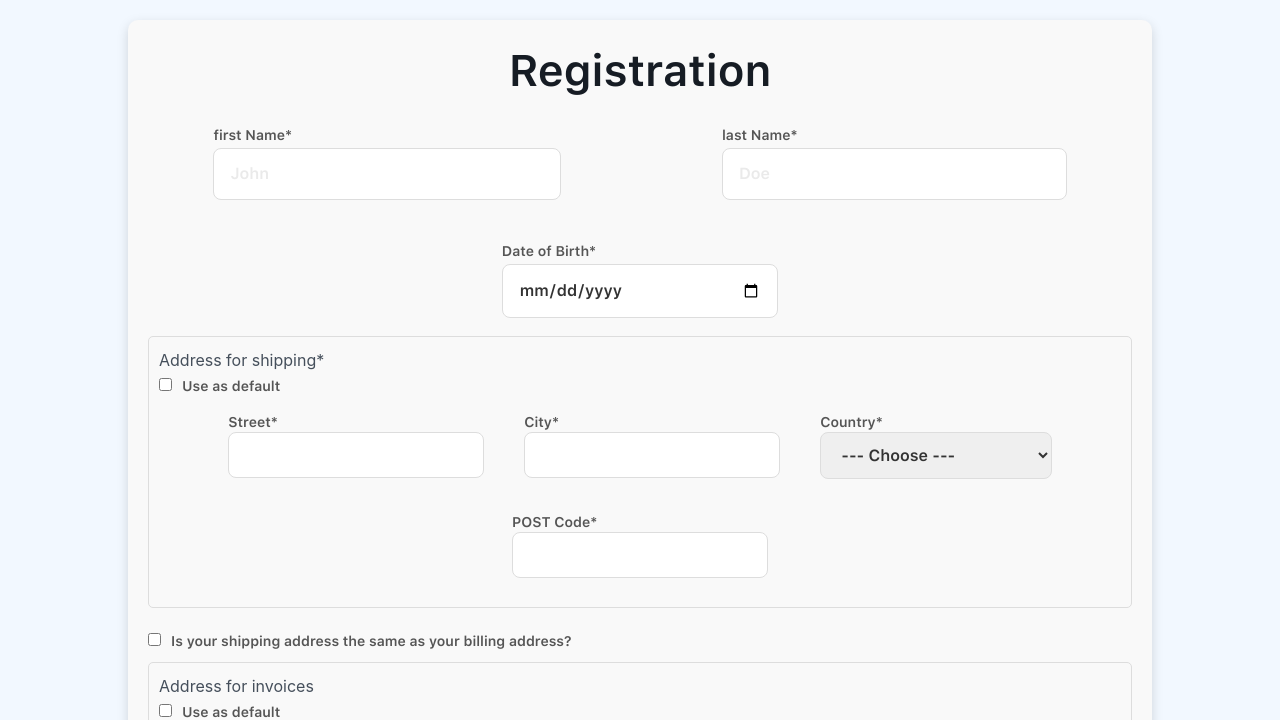
Test: checking input wrong value on Registration page › must be error message when input wrong value in Postal code for country Belarus on Registration page
Select "Belarus" in the dropdown with id "address" at point(936, 456), box [820,432,1052,479]
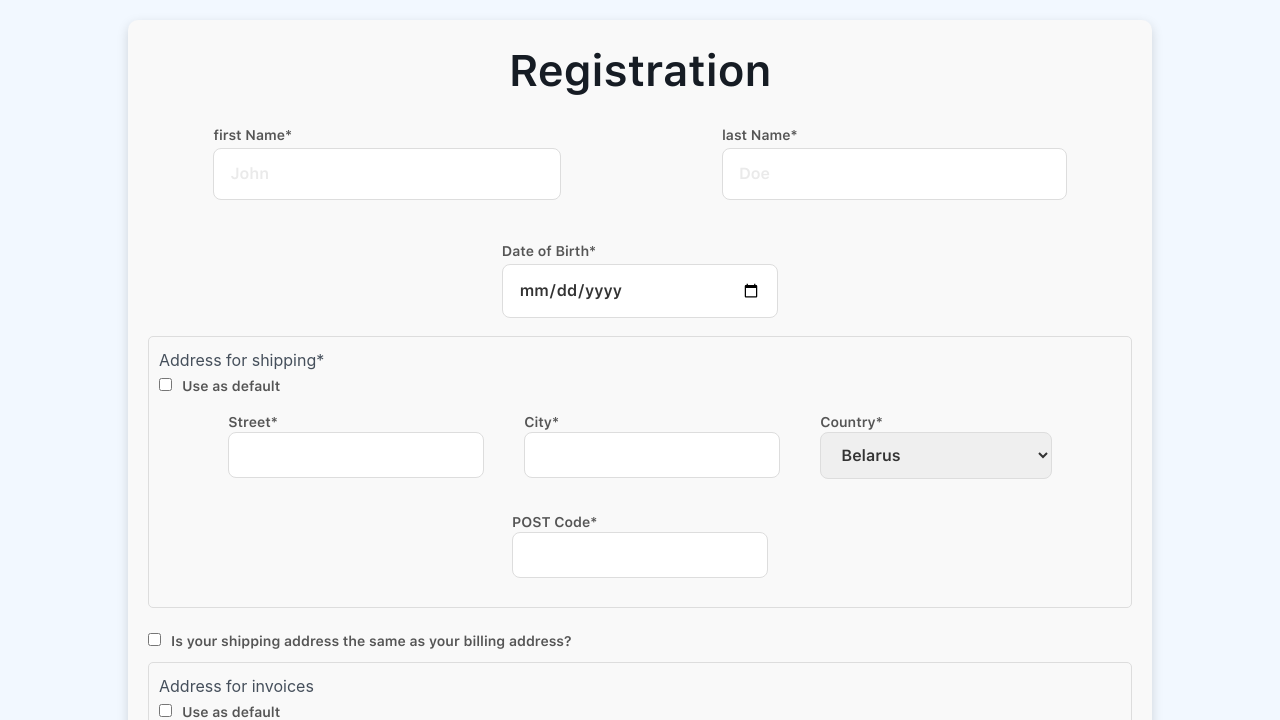
Type "100000" into the field with id "address" at point(640, 555), box [512,532,768,578]
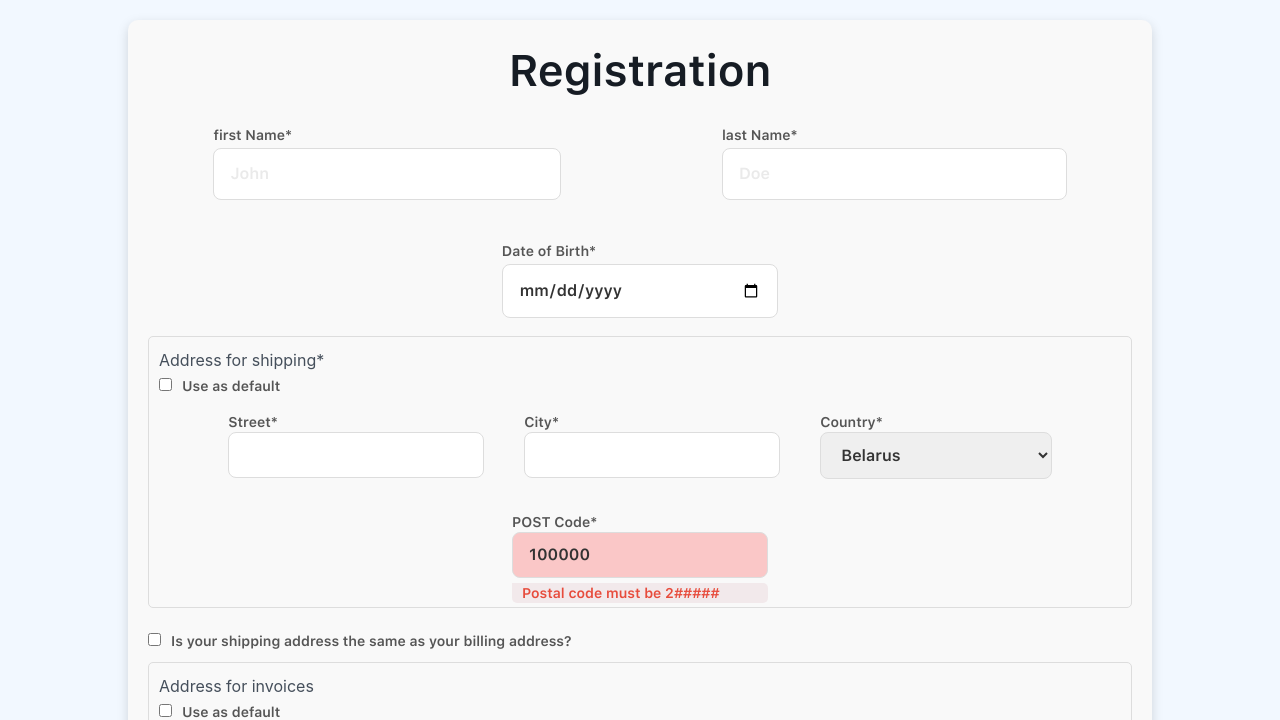
Now the text "Postal code must be 2#####" is shown, box [512,583,768,603]
